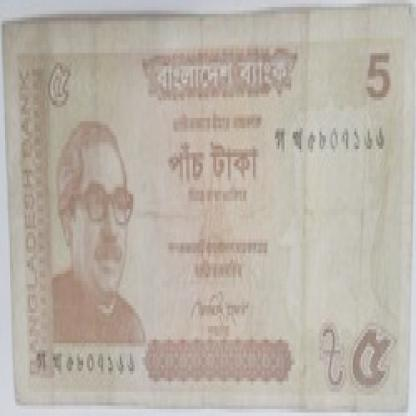Five Taka: (348, 315, 392, 398), (40, 48, 78, 111), (361, 38, 393, 104)
